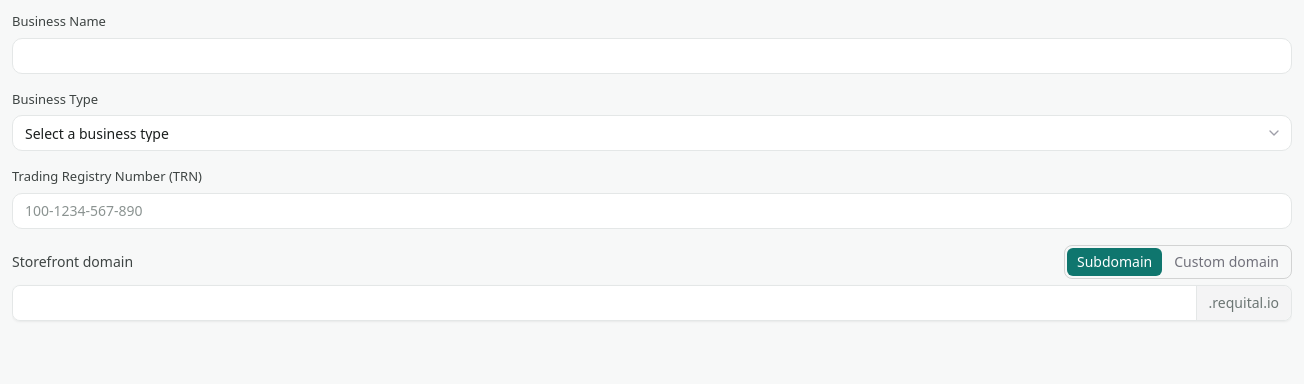
Test: AccountSetupStepBusiness — domain picker › switching to the Custom domain tab shows a plain domain input instead
Click the button "Custom domain". click: x=1227, y=262
box: [1164, 248, 1289, 276]
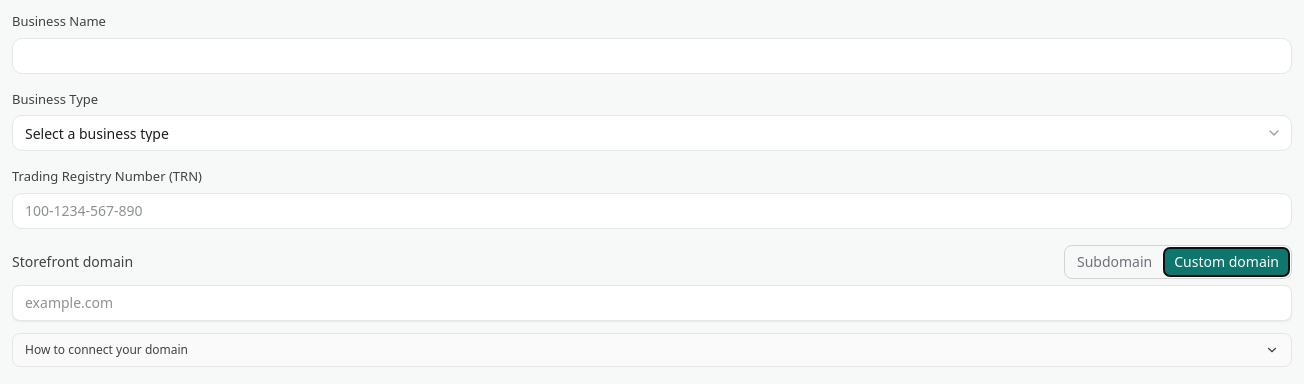
Check: the field named "Custom domain" is shown, box [12, 284, 1292, 320]
